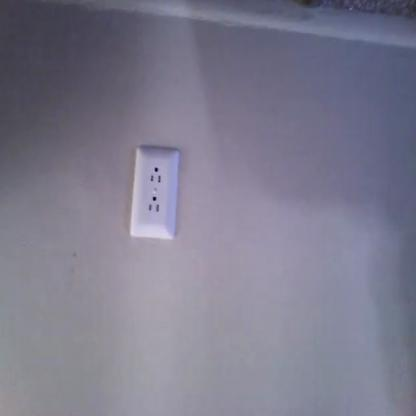OUTLET: (130, 146, 182, 238)
